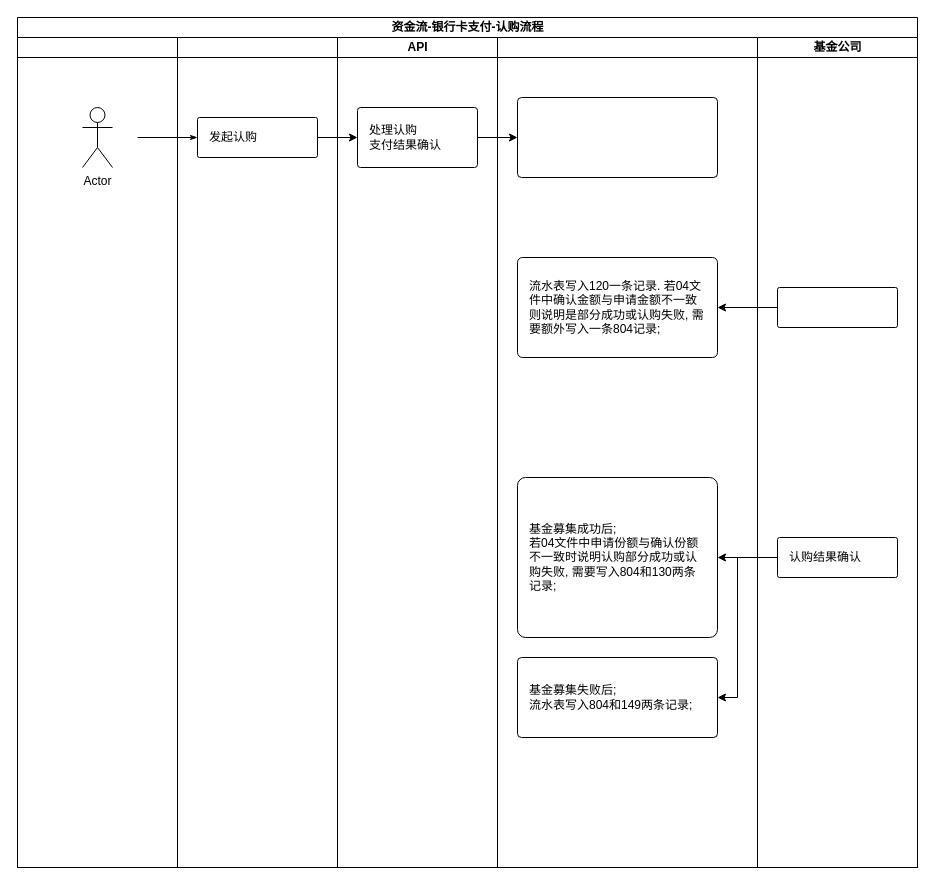
This 935x885 diagram has some shape labels left out. Here are the shapes that lost their labels. From the top down, the box of each, then its label:
(516, 96, 718, 178): 银行卡支付成功后 ; 流水表中写入800和020两条记录 ;
(776, 286, 898, 328): 认购确认
(16, 36, 178, 868): 用户
(176, 36, 338, 868): 前端
(496, 36, 758, 868): 清结算
